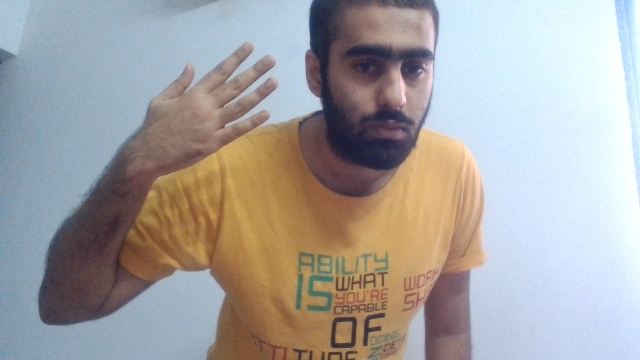paper: (141, 41, 278, 177)
